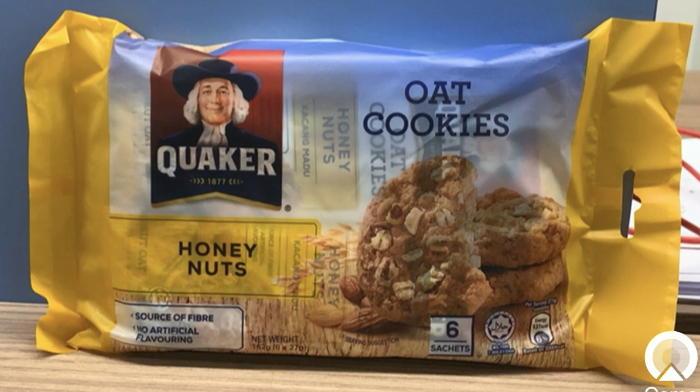cookies_150g: (118, 61, 562, 361)
